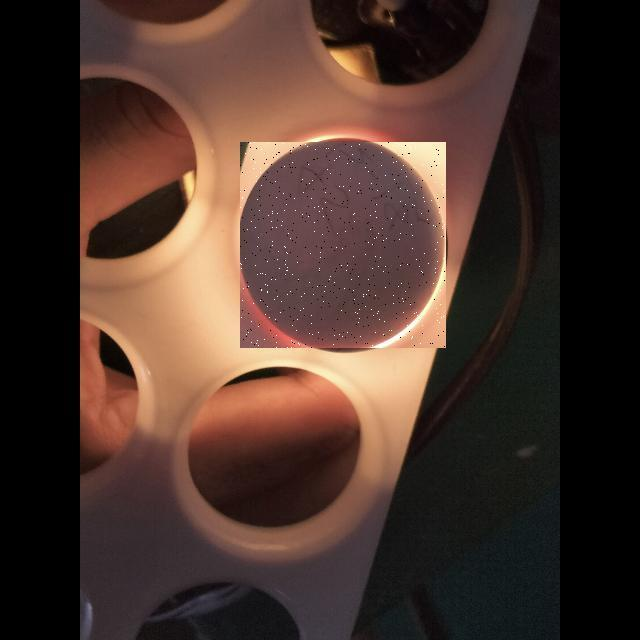A - Good: (240, 140, 442, 348)
